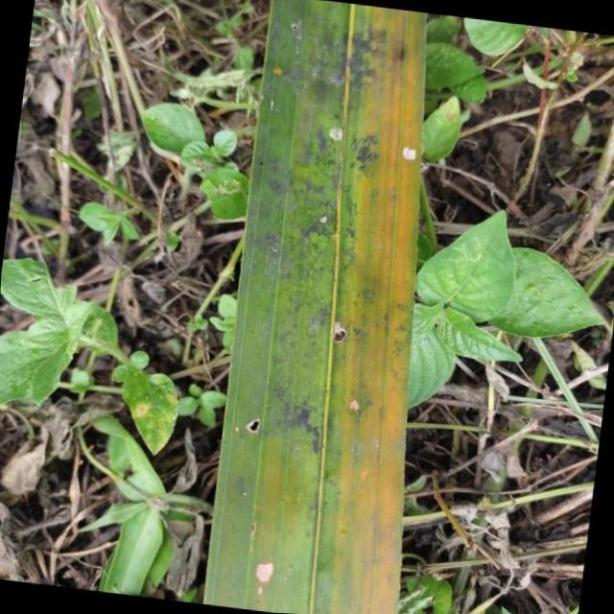Megnesium: (203, 0, 419, 614)
